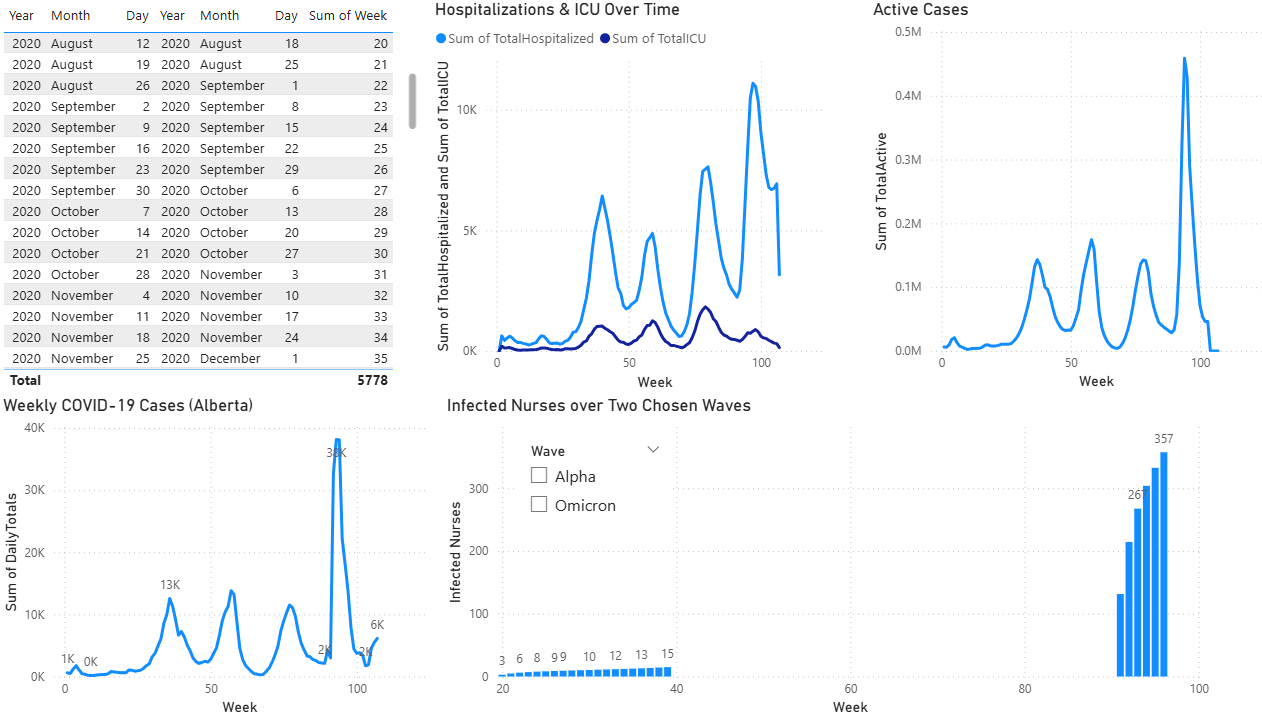

Layout of this report page (visuals, bound fields, positions):
{"tool":"powerbi","page":{"name":"Epidemiology Overview","canvas":[1280,720],"ordinal":0},"visuals":[{"type":"lineChart","title":"Weekly COVID-19 Cases (Alberta)","fields":{"Category":["epi_data.Week"],"Y":["Sum(epi_data.DailyTotals)"]},"box":[0,395.4,432.3,325],"z":0},{"type":"tableEx","fields":{"Values":["epi_data.StartDate.Variation.Date Hierarchy.Year","epi_data.StartDate.Variation.Date Hierarchy.Month","epi_data.StartDate.Variation.Date Hierarchy.Day","epi_data.EndDate.Variation.Date Hierarchy.Year","epi_data.EndDate.Variation.Date Hierarchy.Month","epi_data.EndDate.Variation.Date Hierarchy.Day","Sum(epi_data.Week)"]},"box":[0,0,423.9,395.4],"z":1000},{"type":"lineChart","title":"Hospitalizations & ICU Over Time","fields":{"Category":["epi_data.Week"],"Y":["Sum(epi_data.TotalHospitalized)","Sum(epi_data.TotalICU)"]},"box":[432.3,0,398.7,395.4],"z":2000},{"type":"lineChart","title":"Active Cases","fields":{"Category":["epi_data.Week"],"Y":["Sum(epi_data.TotalActive)"]},"box":[869.5,0,398.7,395.4],"z":3000},{"type":"columnChart","title":"Infected Nurses over Two Chosen Waves","fields":{"Category":["infected_nurses.WeekStart"],"Y":["Sum(infected_nurses.InfectedNurses)"]},"box":[444,395.4,772.4,325],"z":4000},{"type":"slicer","fields":{"Values":["infected_nurses.Wave"]},"box":[519.4,439,154.1,87.1],"z":5000}]}

Visuals, with their boxes in screenshot pixels (x1, y1, x2, y2), scaled from the page's 1280x720 canvas onto the 1262x718 screenshot:
"Weekly COVID-19 Cases (Alberta)" lineChart: {"left": 0, "top": 394, "right": 426, "bottom": 717}
tableEx - epi_data.StartDate.Variation.Date Hierarchy.Year x epi_data.StartDate.Variation.Date Hierarchy.Month: {"left": 0, "top": 0, "right": 418, "bottom": 394}
"Hospitalizations & ICU Over Time" lineChart: {"left": 426, "top": 0, "right": 819, "bottom": 394}
"Active Cases" lineChart: {"left": 857, "top": 0, "right": 1250, "bottom": 394}
"Infected Nurses over Two Chosen Waves" columnChart: {"left": 438, "top": 394, "right": 1199, "bottom": 717}
slicer - infected_nurses.Wave: {"left": 512, "top": 438, "right": 664, "bottom": 525}
